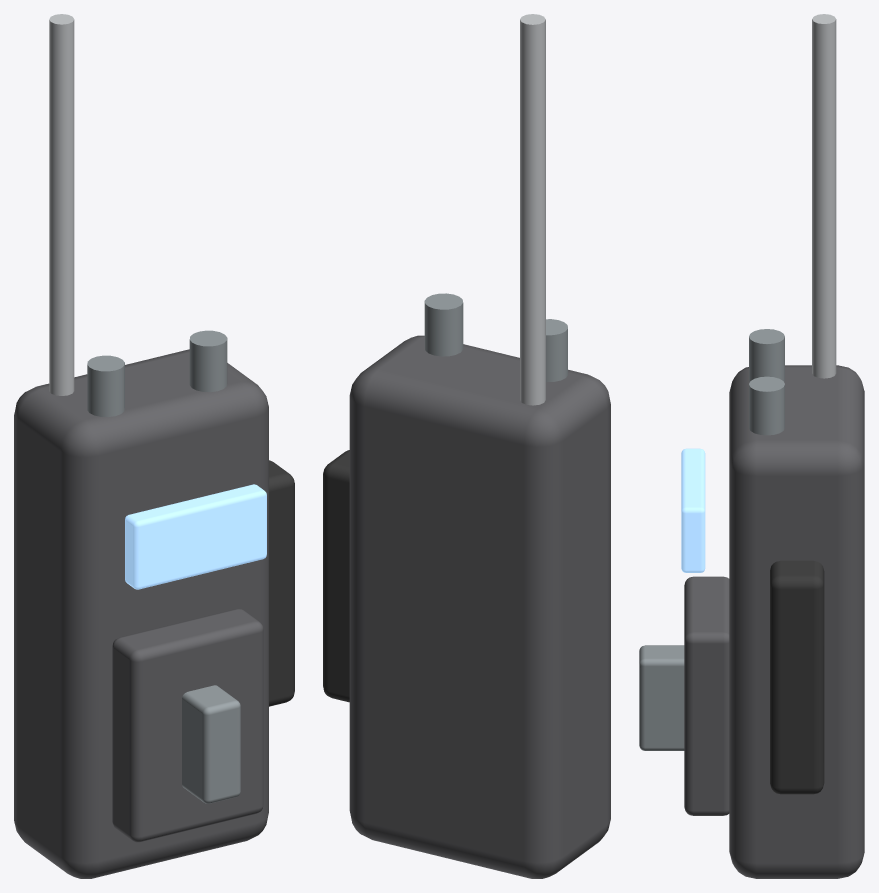
File: prison-complex-builder-guard-handheld-radio-990b1652__25701.glb
3 renders of one model, left to right at view 1: azimuth 30°, elevation 25°; view 2: azimuth 150°, elevation 25°; view 3: azimuth 270°, elevation 25°, orthographic. The views are drawn at different scales.
Parts seen in each view (by area): view 1: guard-handheld-radio; view 2: guard-handheld-radio; view 3: guard-handheld-radio.
Part boxes in pixels (<box>): guard-handheld-radio: <box>14,14,294,878</box>; guard-handheld-radio: <box>323,14,610,878</box>; guard-handheld-radio: <box>639,14,864,878</box>.
Bounding box in the file's own units: 0.09 × 0.29 × 0.075.
